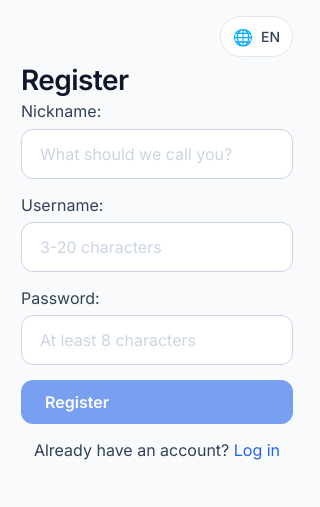
Test: RegisterPage › username format validation › shows error for username longer than 20 characters
In the field labelled "Username:": {"x": 157, "y": 247} [21,222,293,272], type "abcdefghijklmnopqrstu"
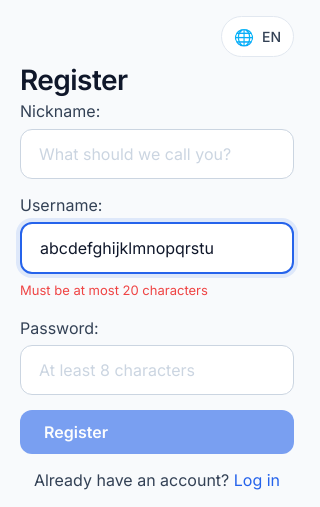
Expected: the text "Must be at most 20 characters" is shown, [20,282,208,298]
